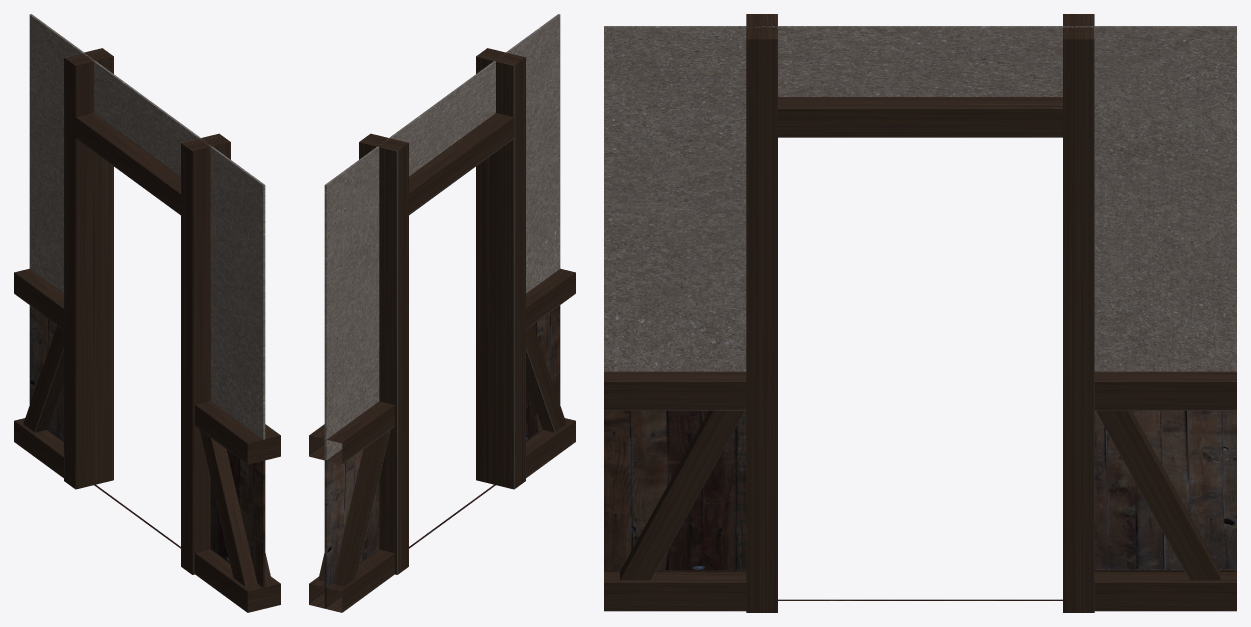
File: OutdoorArchitecture_BasicWall01_Door01_NoDoor_NoEdges_BShortt.fbx
3 views of the same model, side by side, from view 1: azimuth 30°, elevation 25°; view 2: azimuth 150°, elevation 25°; view 3: azimuth 270°, elevation 25° (orthographic). The views are drawn at different scales.
Visible parts, largest first — view 1: OutdoorArchitecture_BasicWall01_Door01_NoDoor_NoEdges_BShort; view 2: OutdoorArchitecture_BasicWall01_Door01_NoDoor_NoEdges_BShort; view 3: OutdoorArchitecture_BasicWall01_Door01_NoDoor_NoEdges_BShort.
Part boxes in pixels (<box>): OutdoorArchitecture_BasicWall01_Door01_NoDoor_NoEdges_BShort: <box>14,14,280,612</box>; OutdoorArchitecture_BasicWall01_Door01_NoDoor_NoEdges_BShort: <box>309,14,575,612</box>; OutdoorArchitecture_BasicWall01_Door01_NoDoor_NoEdges_BShort: <box>604,14,1236,612</box>.
Size of the model in its own units: 28.5 by 300 by 300.
